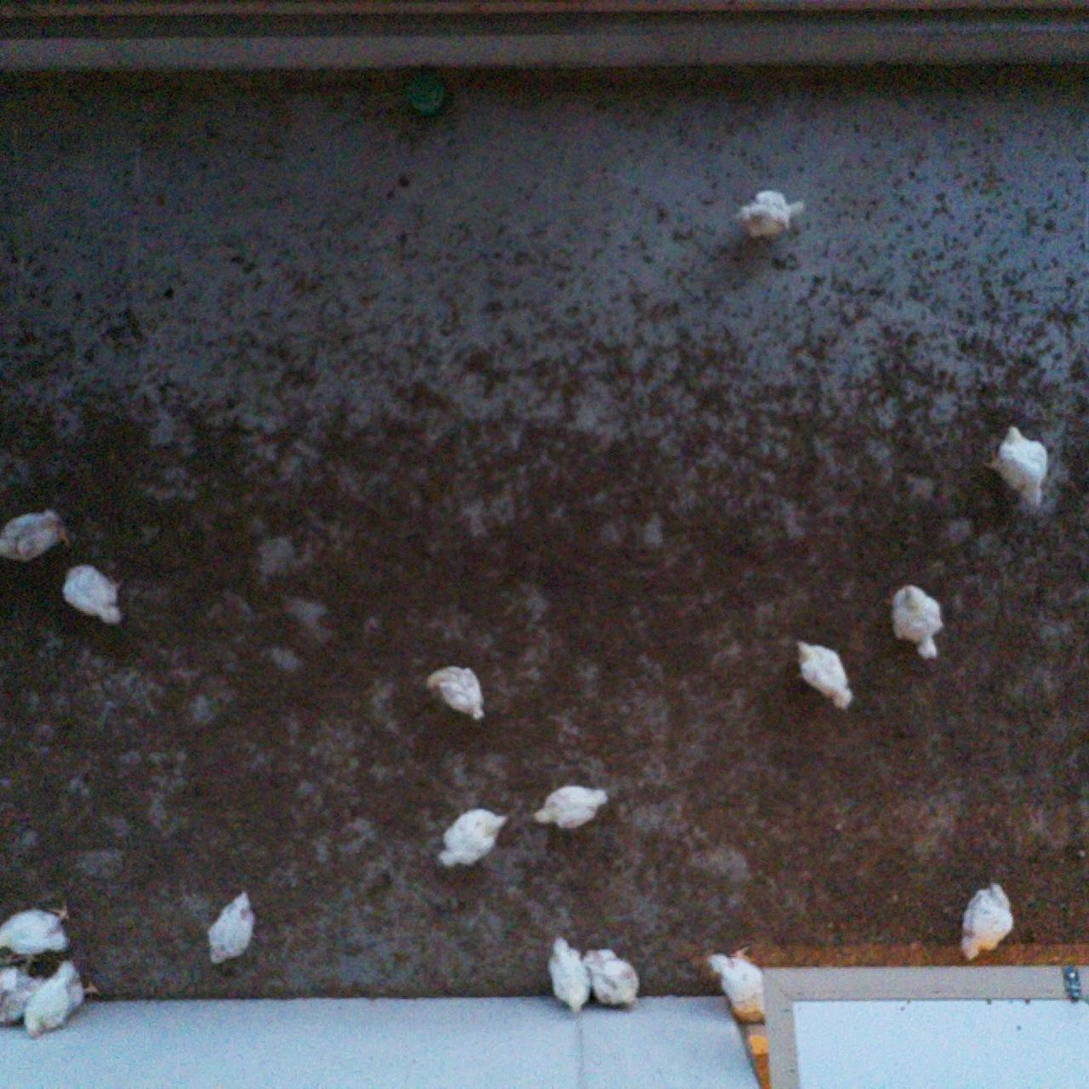chicken: (23, 958, 103, 1038), (985, 420, 1051, 509), (707, 943, 774, 1025), (438, 805, 511, 872), (794, 637, 856, 714), (544, 934, 603, 1013), (958, 881, 1016, 961), (0, 898, 78, 957), (0, 505, 76, 565), (581, 943, 644, 1012), (889, 582, 944, 661), (204, 889, 259, 966), (61, 562, 124, 629), (737, 186, 809, 242), (534, 781, 610, 833), (426, 663, 489, 723), (0, 957, 48, 1029)
